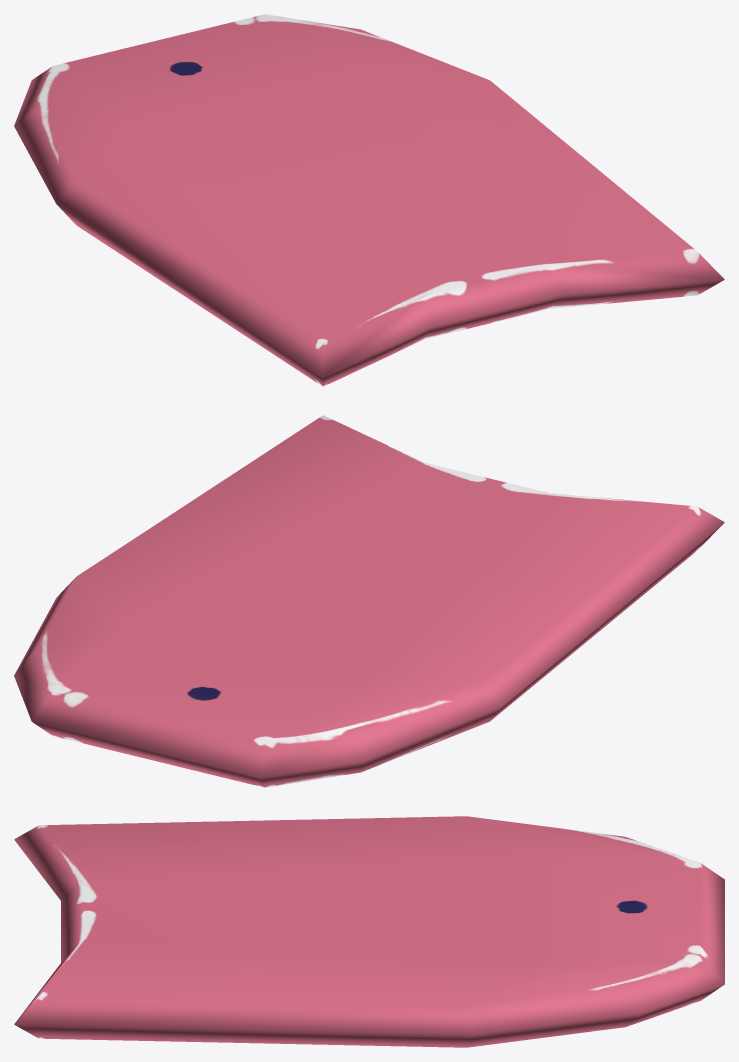
Rendered from boogey_board.fbx.
3 renders of one model, top to bottom at view 1: azimuth 30°, elevation 25°; view 2: azimuth 150°, elevation 25°; view 3: azimuth 270°, elevation 25°, orthographic. The views are drawn at different scales.
Parts seen in each view (by area): view 1: pCube1; view 2: pCube1; view 3: pCube1.
Part boxes in pixels (<box>): pCube1: <box>14,14,724,386</box>; pCube1: <box>14,415,724,787</box>; pCube1: <box>14,816,724,1047</box>.
Size of the model in its own units: 1.44 by 0.1364 by 2.12.
